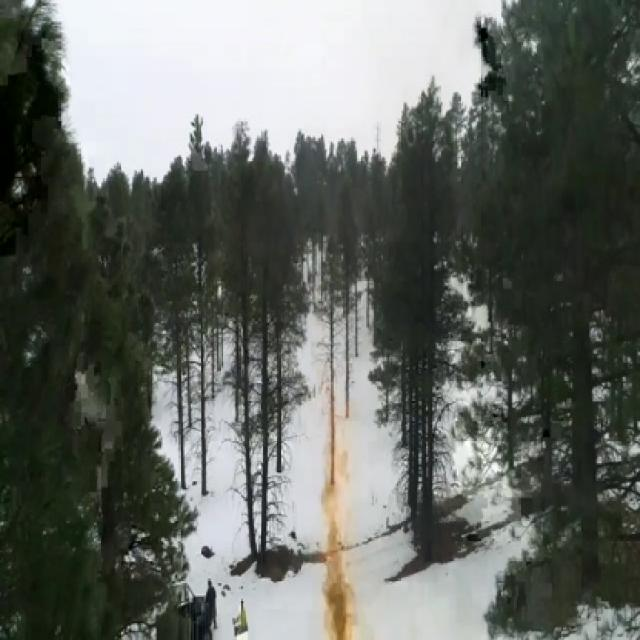Fire: (326, 407, 350, 640)
